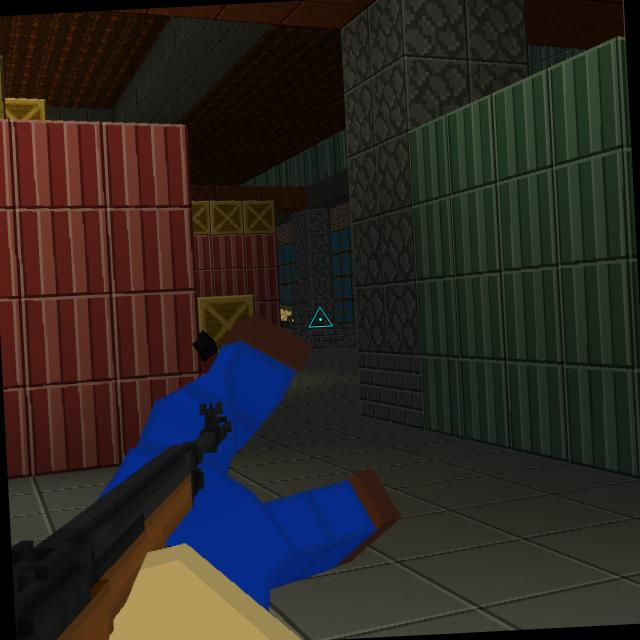enemy: (282, 306, 296, 327)
